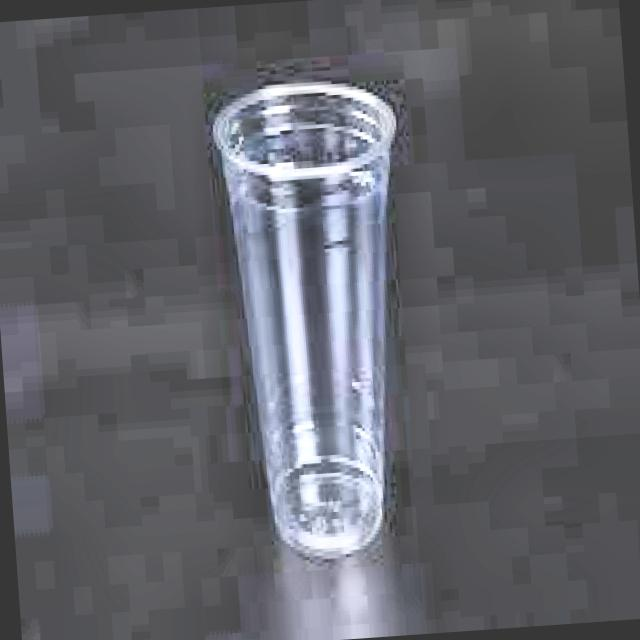plastic cup: (213, 85, 395, 554)
